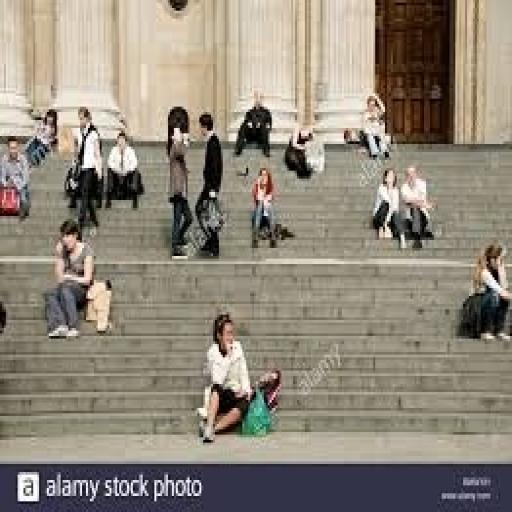sitting: (192, 310, 284, 446), (41, 216, 96, 341), (457, 237, 510, 344), (102, 128, 146, 211), (398, 160, 438, 251), (230, 85, 276, 160), (370, 165, 408, 251), (0, 134, 33, 222), (358, 88, 392, 163), (22, 104, 60, 168)
